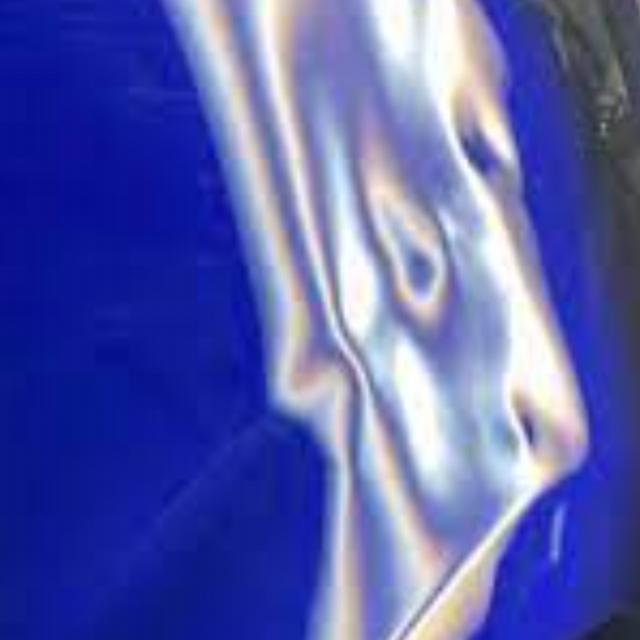dents: (356, 180, 481, 316), (430, 87, 521, 190), (498, 373, 578, 489)
